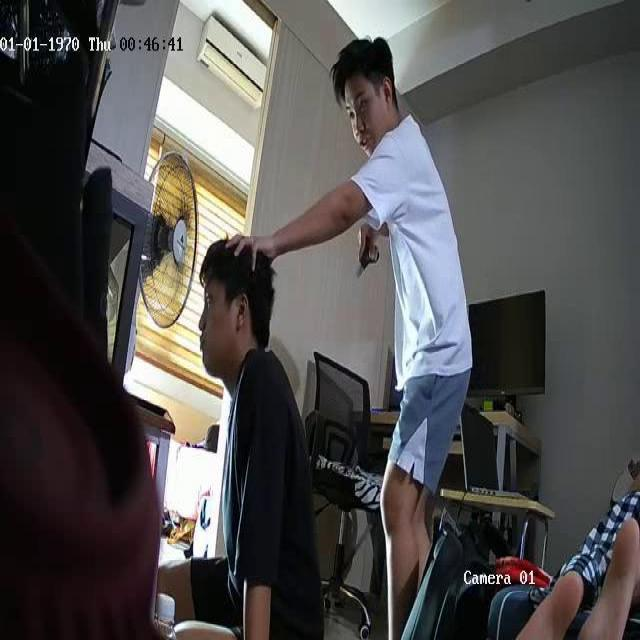scissor: (356, 236, 380, 276)
